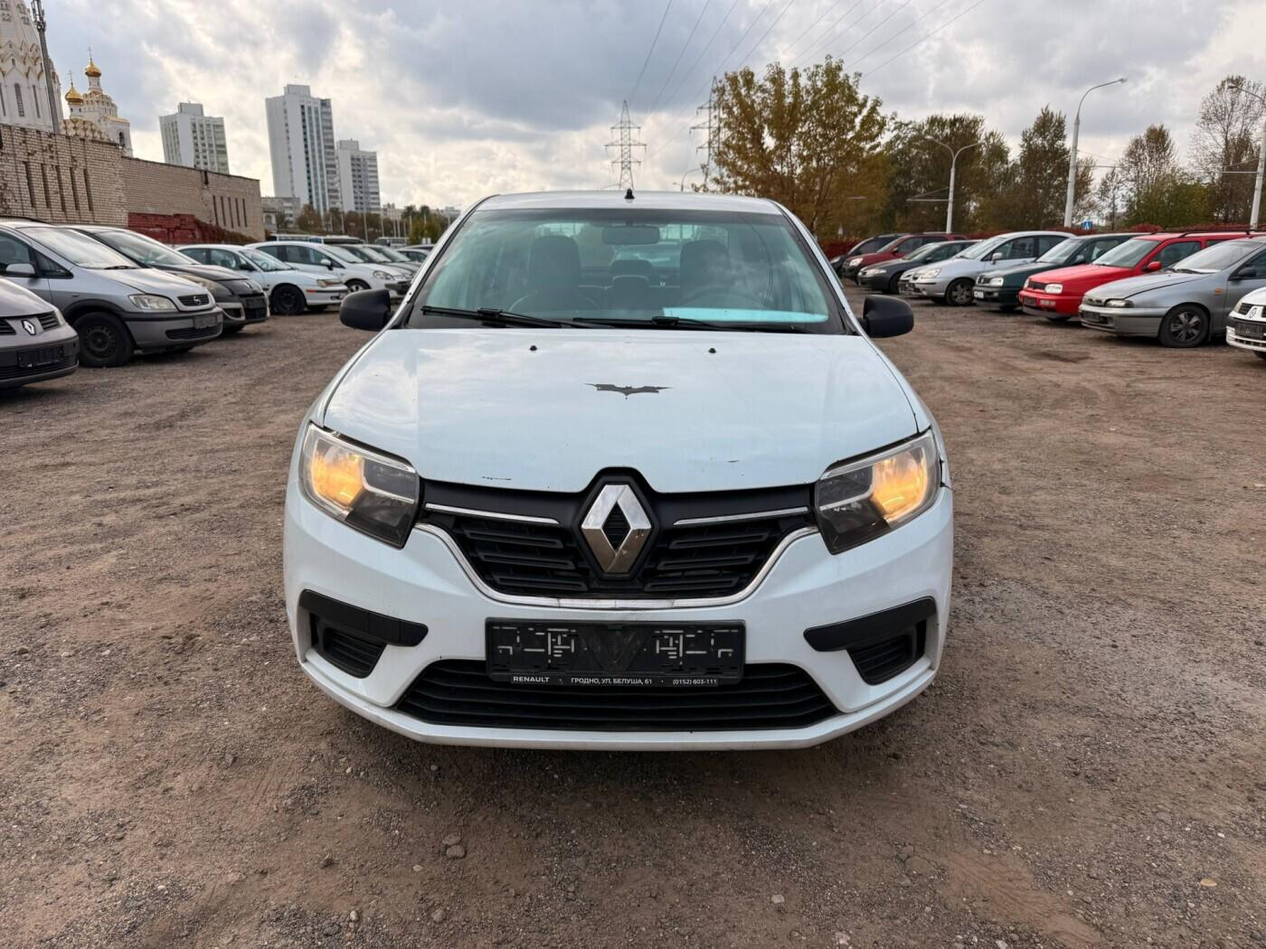Logan_2018: (279, 178, 962, 755)
